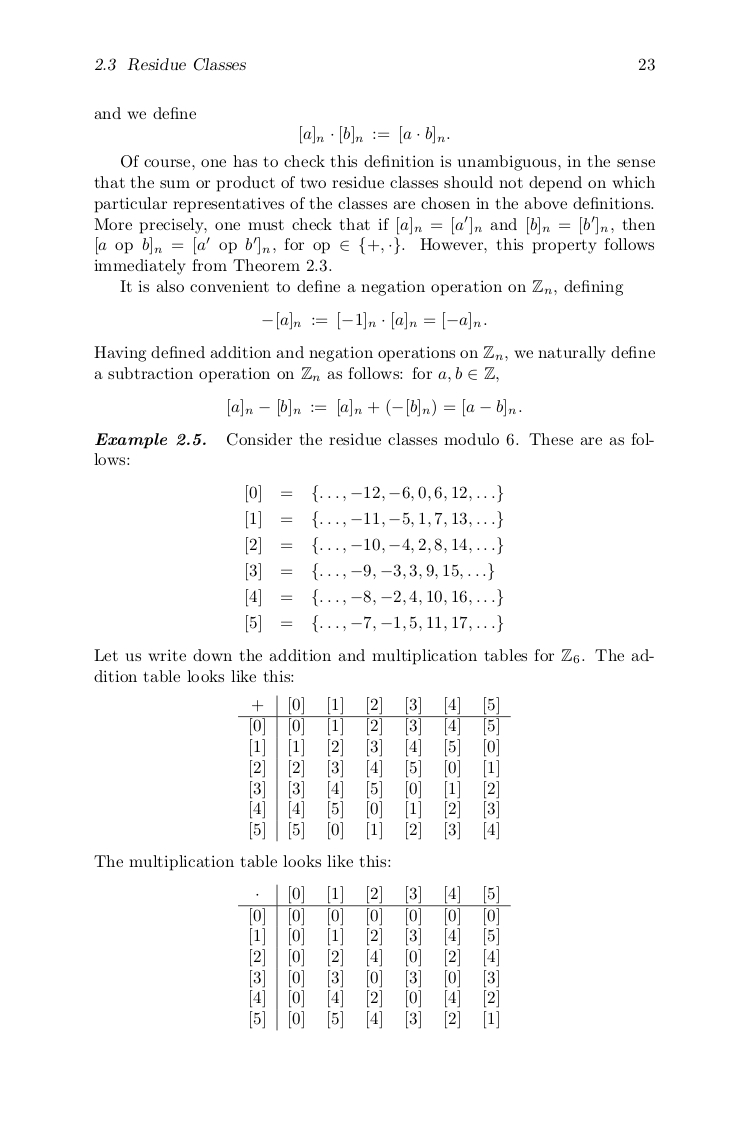Table: (238, 694, 510, 842), (238, 883, 510, 1031)
formula: (228, 398, 521, 417), (246, 535, 502, 555), (246, 484, 502, 503), (246, 510, 502, 529), (246, 588, 502, 607), (246, 614, 502, 633), (246, 562, 493, 581), (262, 311, 486, 330), (300, 125, 449, 144)
